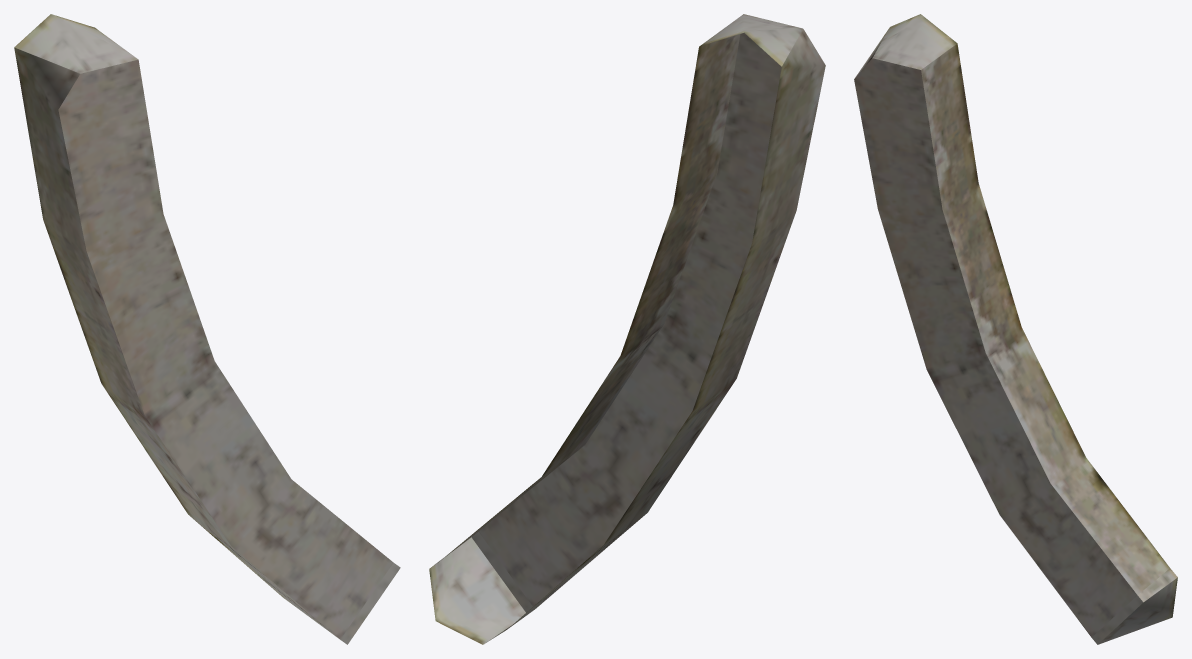
Rendered from border_c_120_white.glb.
3 renders of one model, left to right at view 1: azimuth 30°, elevation 25°; view 2: azimuth 150°, elevation 25°; view 3: azimuth 330°, elevation 25°, orthographic. The views are drawn at different scales.
Parts seen in each view (by area): view 1: set_0_group_0; view 2: set_0_group_0; view 3: set_0_group_0.
Boxes of the visible parts, left/top/right/bottom form: set_0_group_0: left=14, top=14, right=400, bottom=644; set_0_group_0: left=429, top=14, right=825, bottom=644; set_0_group_0: left=854, top=14, right=1177, bottom=644.
Bounding box in the file's own units: 1.39 × 2.54 × 0.3037.
1 material, 1 textured.
